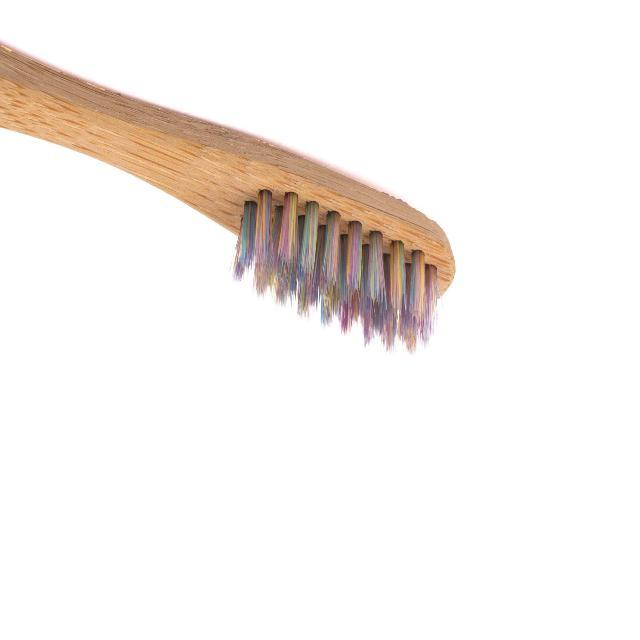toothbrush: (0, 40, 508, 344)
